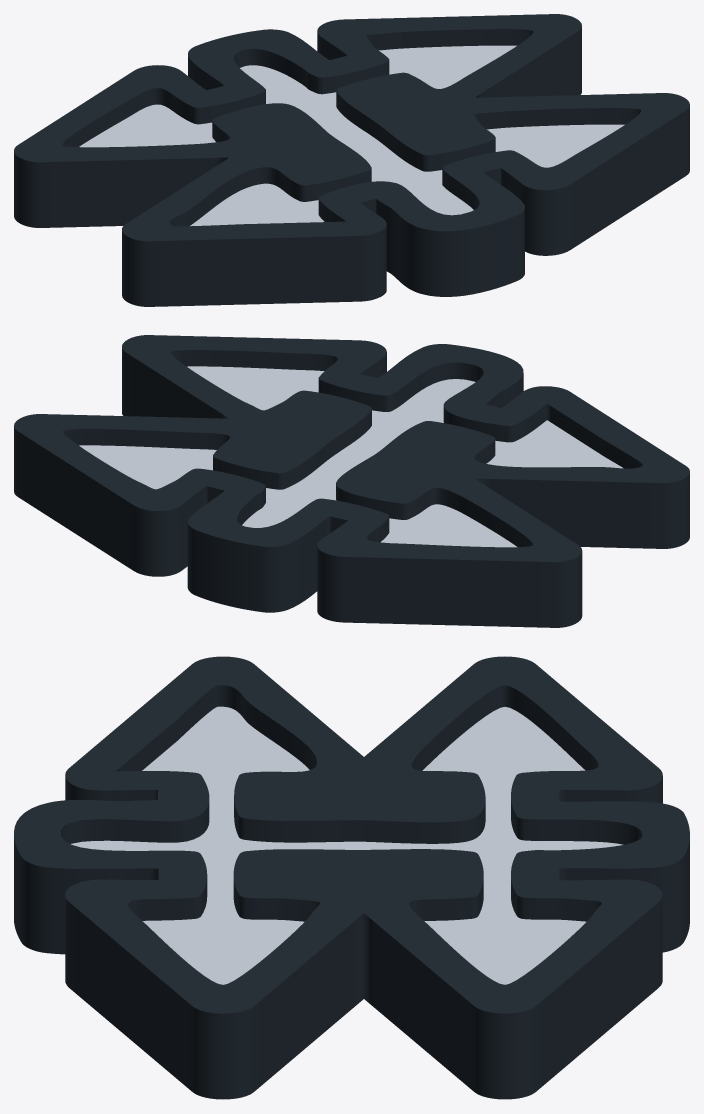
File: Edit1.glb
The picture shows the model from 3 angles, top to bottom: view 1: azimuth 30°, elevation 25°; view 2: azimuth 150°, elevation 25°; view 3: azimuth 270°, elevation 25°; orthographic projection. The views are drawn at different scales.
Visible parts, largest first — view 1: Curve.010; view 2: Curve.010; view 3: Curve.010.
Part boxes in pixels (x1=…): Curve.010: x1=14, y1=14, x2=689, y2=306; Curve.010: x1=14, y1=335, x2=689, y2=627; Curve.010: x1=14, y1=656, x2=689, y2=1099.
Size of the model in its own units: 1.77 by 0.198 by 1.41.
Materials: 1 (1 with a texture image).
